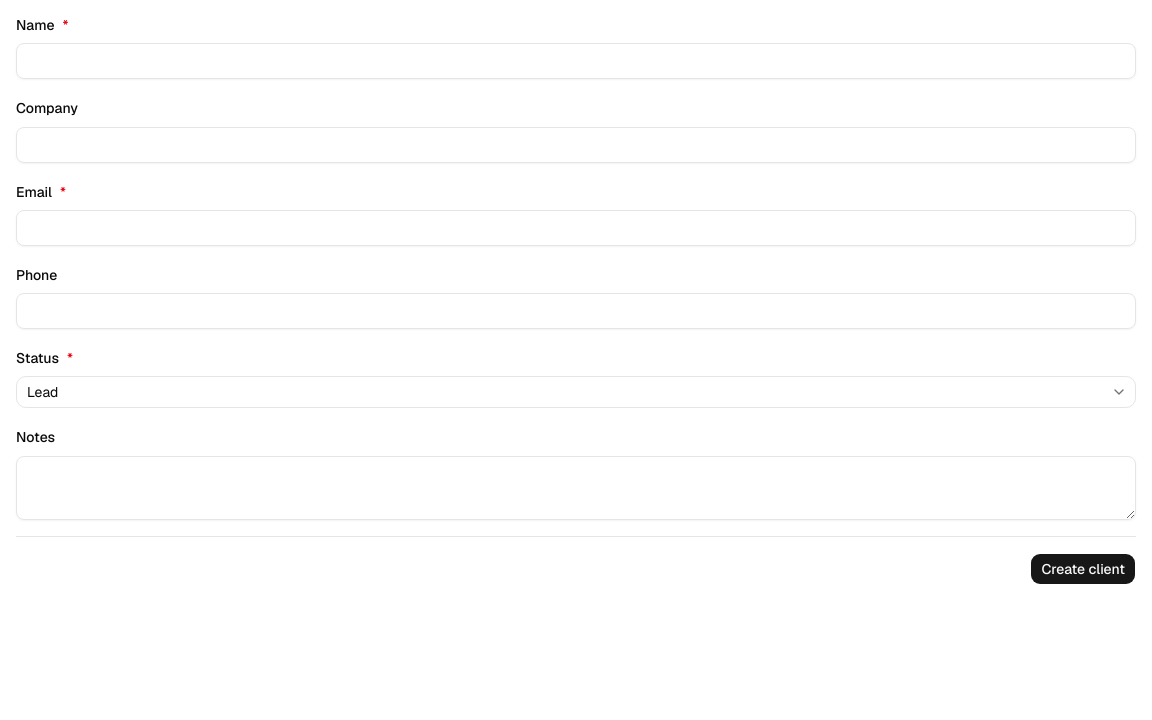
Scenario: ClientForm (create mode) › shows a Zod error when Name is empty on submit
Click the button "Create client" at (1083, 568), box [1030,552,1136,584]
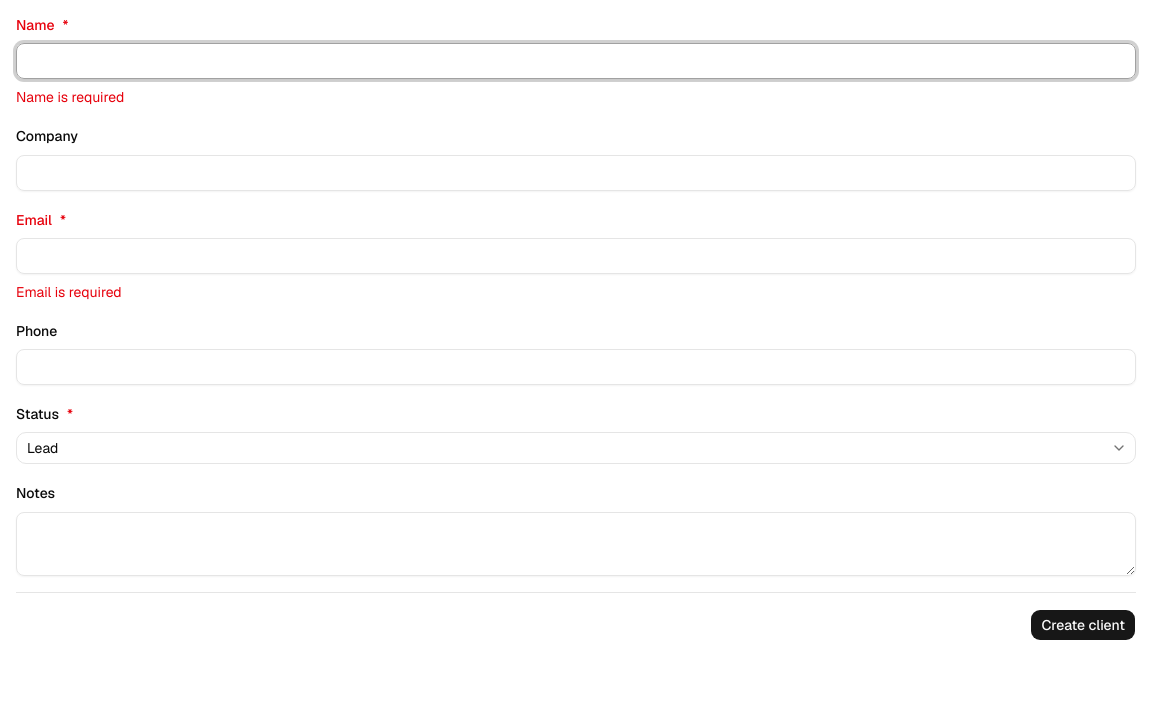
Result: the text "Name is required" is shown at [16,88,124,106]
